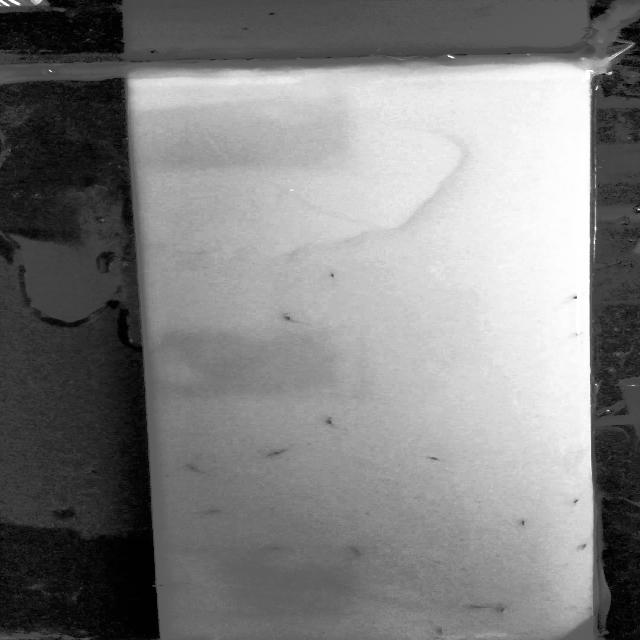shrimp: (279, 312, 311, 329), (148, 579, 194, 590), (312, 414, 348, 428), (183, 464, 212, 480), (266, 444, 288, 460), (342, 544, 364, 559), (494, 605, 519, 618), (554, 293, 581, 305), (421, 452, 446, 462), (208, 506, 230, 516), (567, 497, 586, 508), (516, 518, 539, 527), (576, 542, 592, 553), (433, 628, 450, 638), (468, 603, 490, 610), (267, 546, 292, 552), (324, 269, 340, 278)
